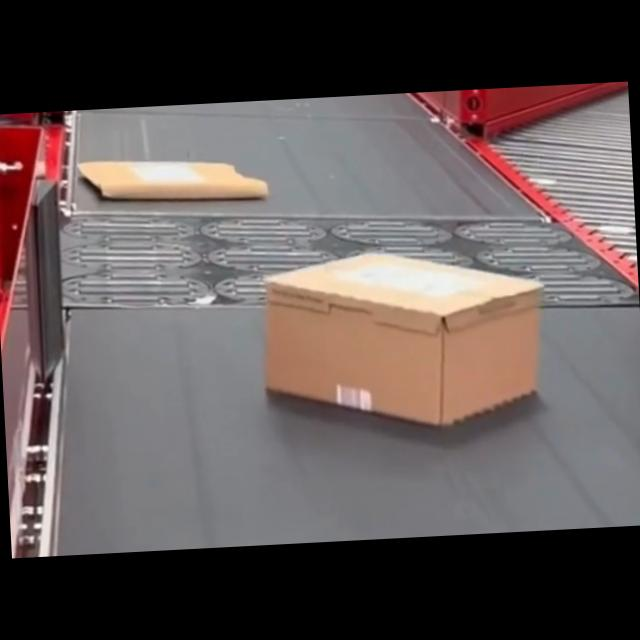box: (258, 242, 545, 442)
mailer: (78, 150, 270, 209)
